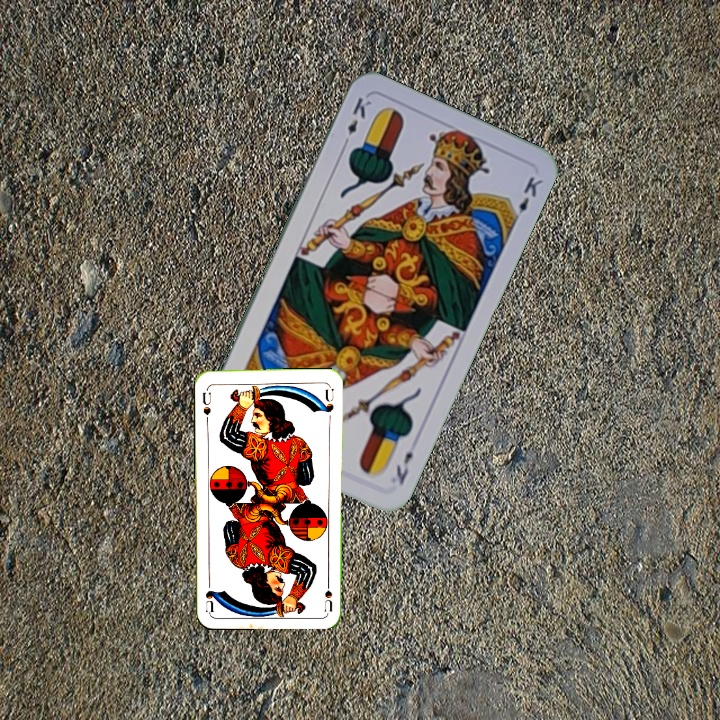EK: (338, 93, 374, 150), (392, 447, 416, 488)
SU: (198, 384, 213, 424), (320, 572, 334, 612)
